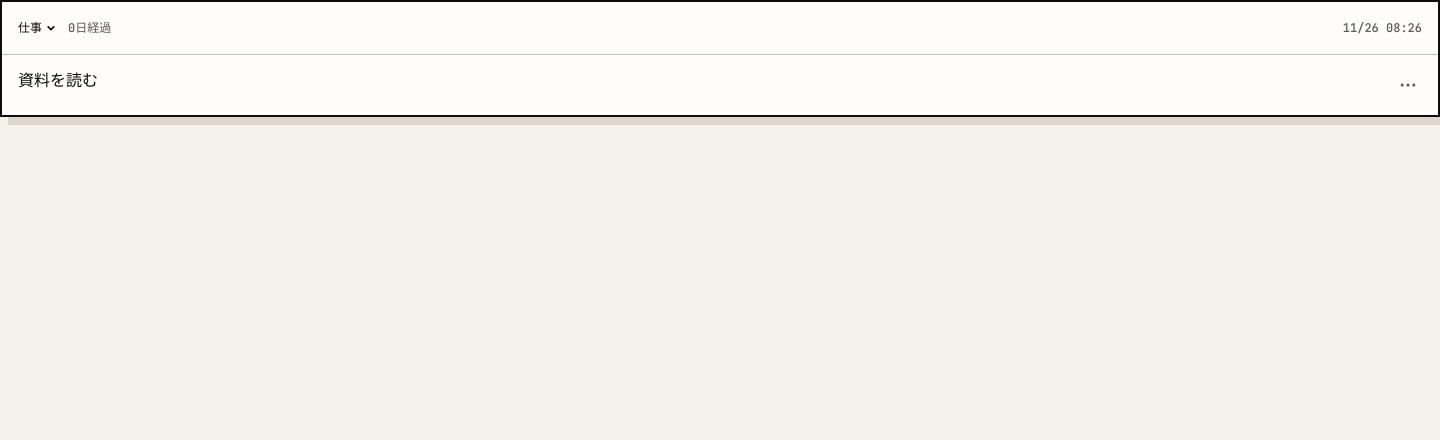
Test: TaskCard actions › leads with a different step depending on the lane
Click the button named "操作" at [1408, 85], box [1386,63,1430,107]
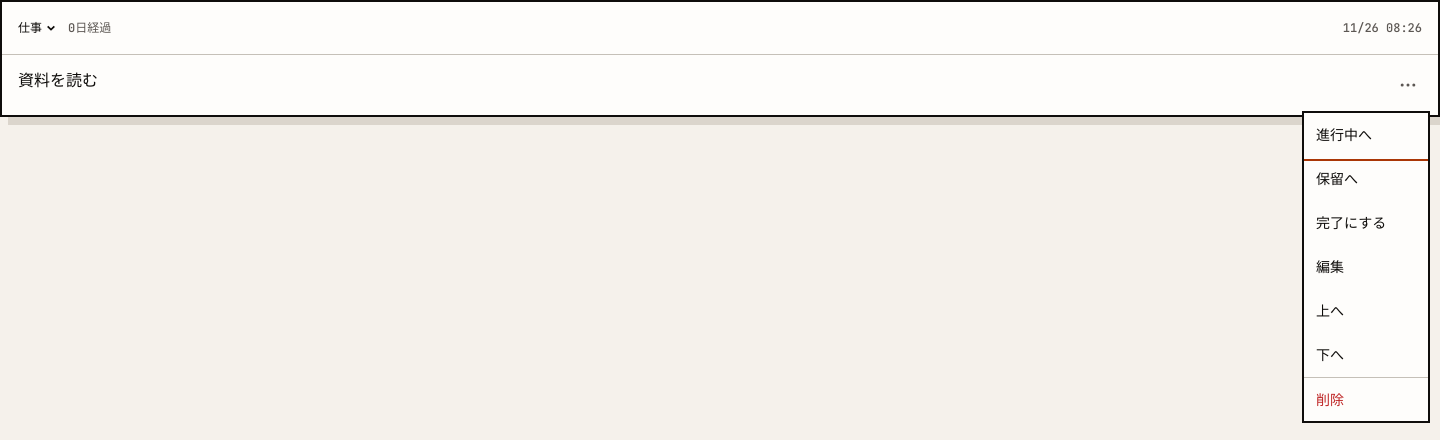
Check: the menu item "進行中へ" is shown, box [1304,113,1428,157]
